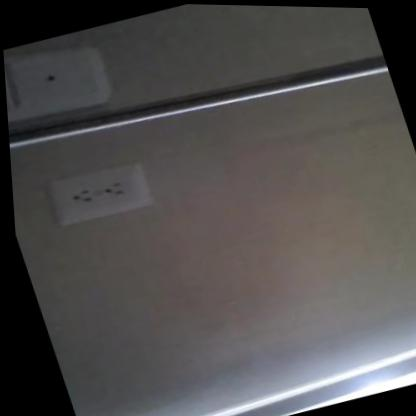OUTLET: (43, 158, 156, 228)
